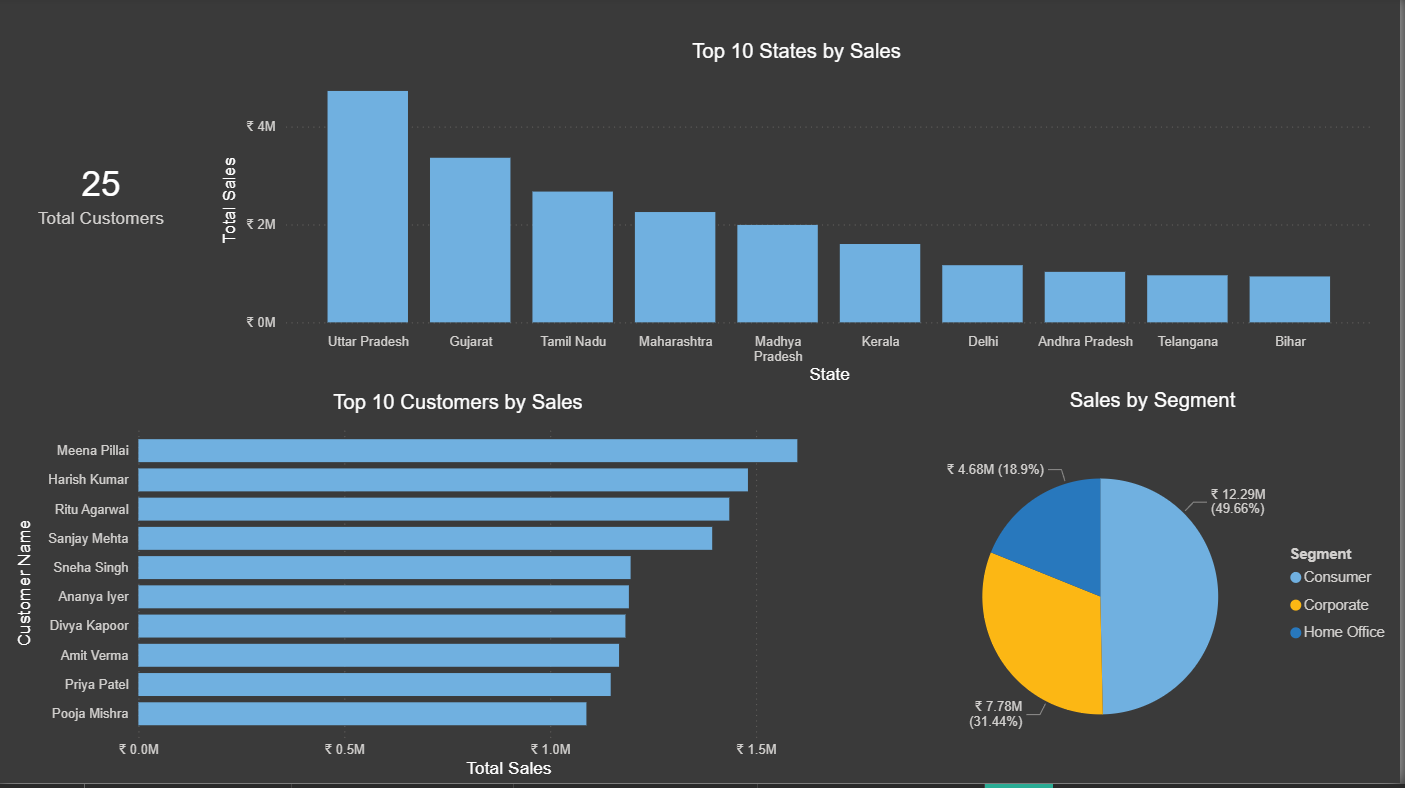

The page's visual inventory and layout, read from the dashboard file:
{"tool":"powerbi","page":{"name":"Customer Analysis","canvas":[1280,720],"ordinal":2},"visuals":[{"type":"clusteredBarChart","title":"Top 10 Customers by Sales","fields":{"Category":["Orders.Customer Name"],"Y":["Measure.Total Sales"]},"box":[9.2,360.8,818.6,358.9],"z":0},{"type":"pieChart","title":"Sales by Segment","fields":{"Category":["Orders.Segment"],"Y":["Measure.Total Sales"]},"box":[827.7,358.9,452.3,358.9],"z":1000},{"type":"clusteredColumnChart","title":"Top 10 States by Sales","fields":{"Category":["Orders.State"],"Y":["Measure.Total Sales"]},"box":[197,39.7,1062.9,319.3],"z":2000},{"type":"card","fields":{"Values":["Measure.Total Customers"]},"box":[0,0,184.3,359.1],"z":3000}]}

Visuals, with their boxes in screenshot pixels (x1, y1, x2, y2), scaled from the page's 1280x720 canvas onto the 1405x788 screenshot:
"Top 10 Customers by Sales" clusteredBarChart: bbox=(10, 395, 909, 787)
"Sales by Segment" pieChart: bbox=(909, 393, 1404, 786)
"Top 10 States by Sales" clusteredColumnChart: bbox=(216, 43, 1383, 393)
card - Measure.Total Customers: bbox=(0, 0, 202, 393)
